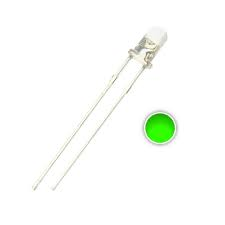jumper_wire: (54, 11, 187, 172)
